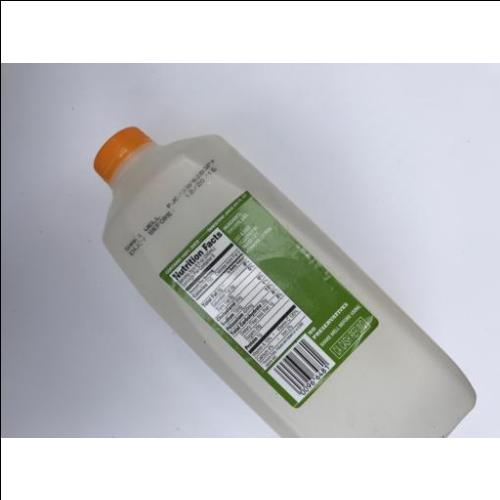plastic: (91, 126, 477, 436)
